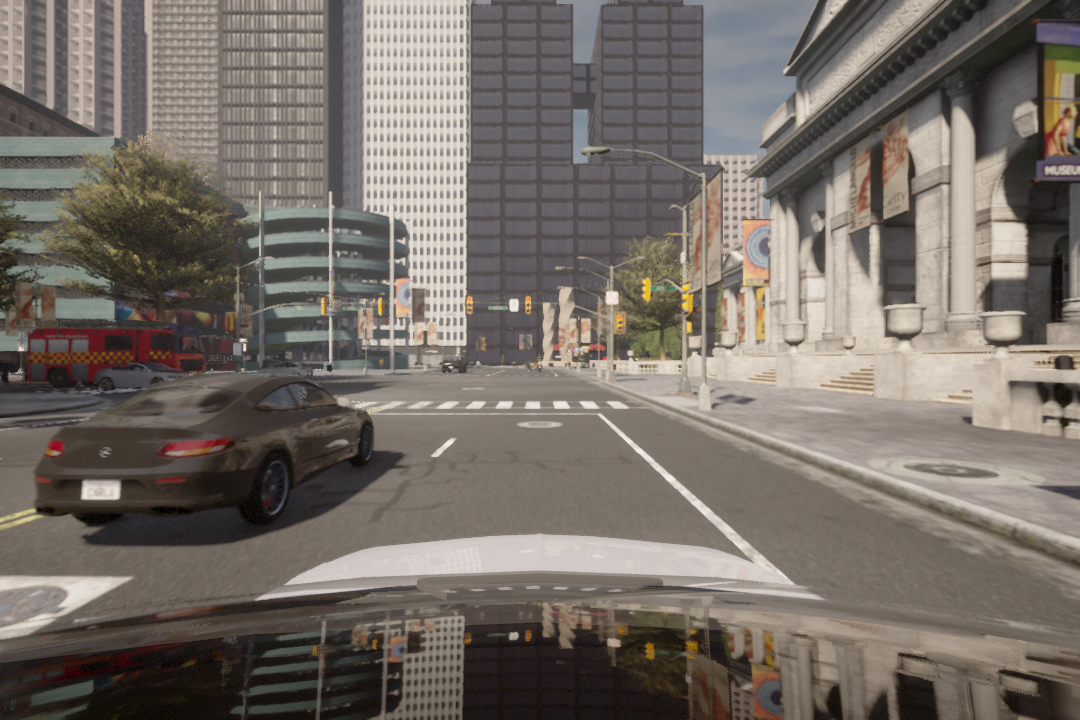TrafficLight: (465, 294, 473, 316), (525, 296, 531, 317)
walkside: (344, 397, 649, 414)
